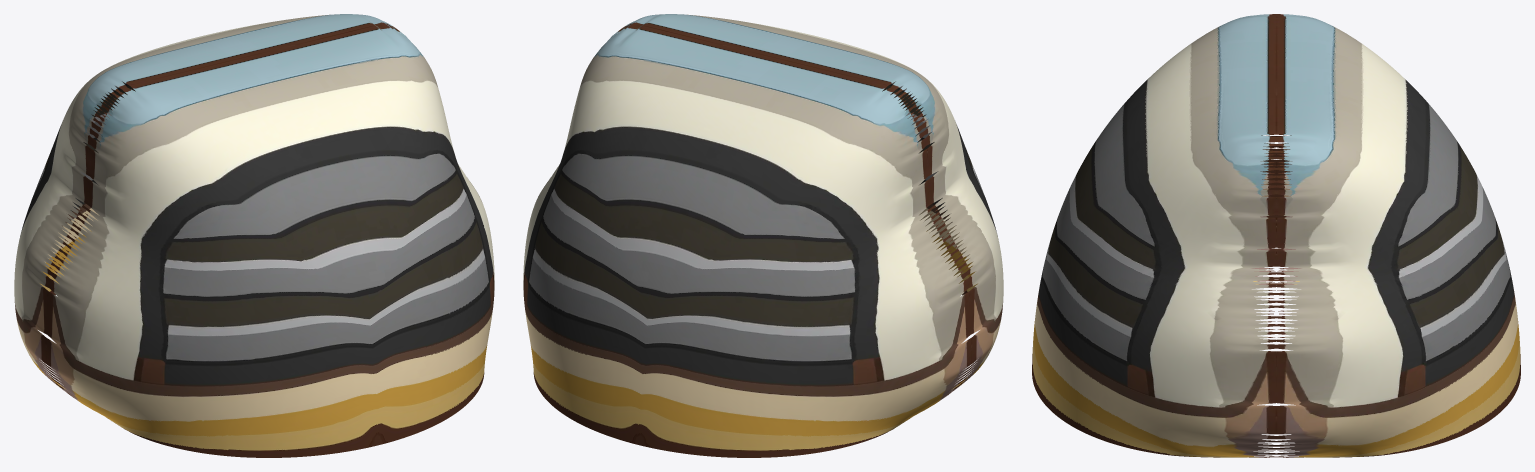
Rendered from vent_housing.glb.
3 views of the same model, side by side, from view 1: azimuth 30°, elevation 25°; view 2: azimuth 150°, elevation 25°; view 3: azimuth 270°, elevation 25° (orthographic).
Parts seen in each view (by area): view 1: vent_housing; view 2: vent_housing; view 3: vent_housing.
Boxes of the visible parts, x1=… form: vent_housing: x1=14, y1=14, x2=494, y2=457; vent_housing: x1=523, y1=14, x2=1003, y2=457; vent_housing: x1=1032, y1=14, x2=1520, y2=457.
Size of the model in its own units: 0.989 by 0.6807 by 1.01.
Materials: 1 (1 with a texture image).
